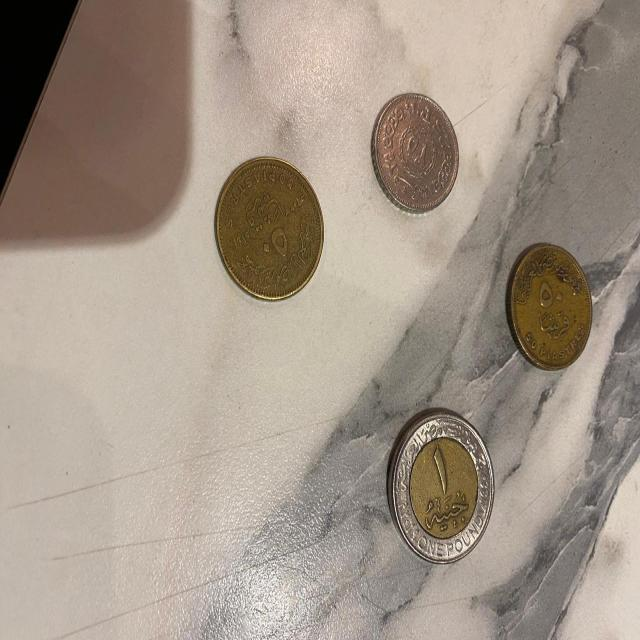Half Pound: (209, 144, 325, 308), (492, 232, 600, 376)
One Pound: (378, 396, 497, 573)
quarter pound: (366, 87, 468, 222)
